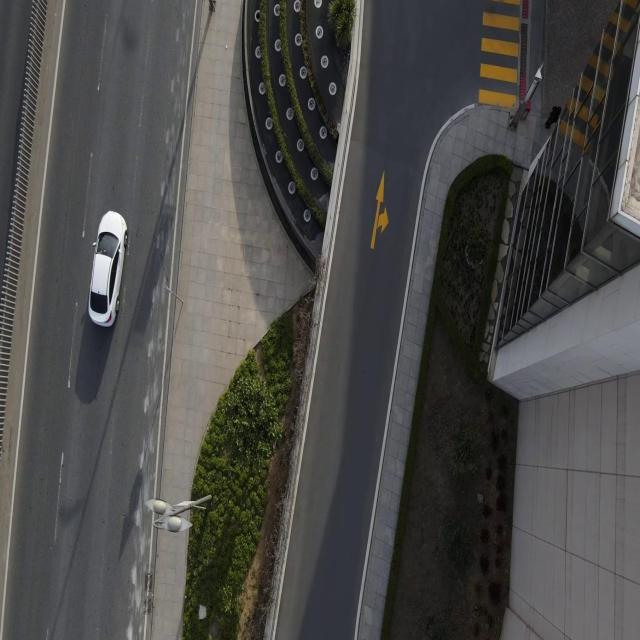p3rson: (545, 104, 562, 131)
